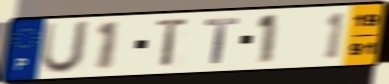1: (93, 19, 123, 73), (255, 13, 281, 65), (324, 10, 347, 62)
T: (154, 16, 192, 70), (203, 16, 241, 66)
U: (38, 19, 94, 76)
